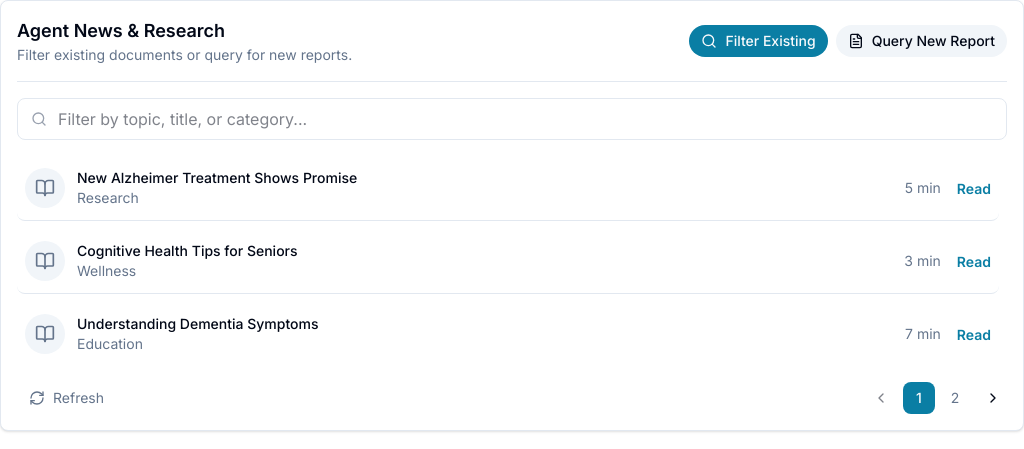
Test case: NewsFeed › clears search when clear button is clicked
Expected: the text "New Alzheimer Treatment Shows Promise" is shown, [77, 168, 357, 188]
Note: Enter search text
Type "test" into the field with placeholder "Filter by topic, title, or category..." at (512, 119), box [17, 98, 1007, 140]
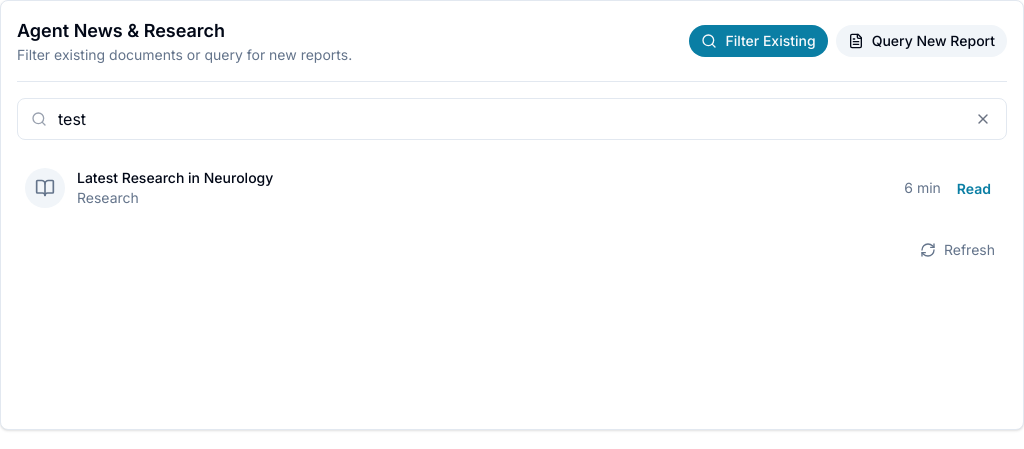
Note: Click clear button
Click the button named "Clear search" at (983, 119), box [971, 107, 995, 131]
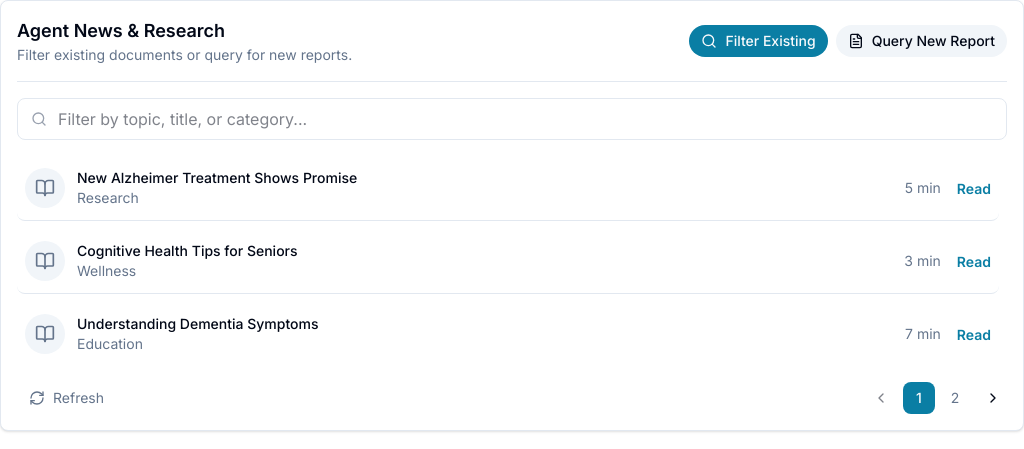
Now the field with placeholder "Filter by topic, title, or category..." is empty, box [17, 98, 1007, 140]
